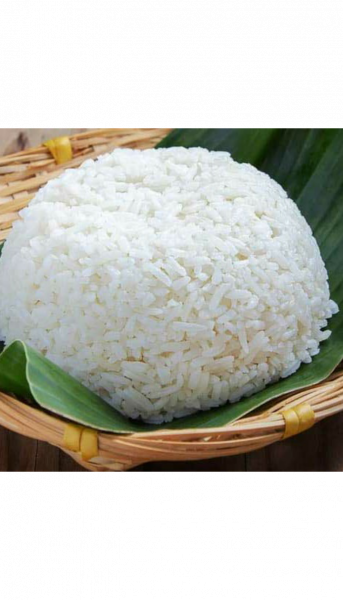Nasi Putih: (1, 146, 342, 417)
